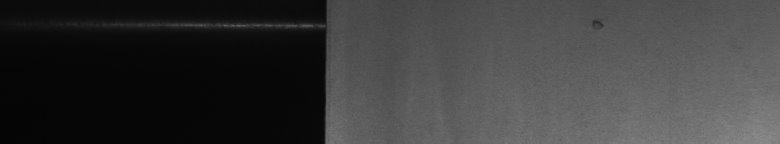fi: (589, 13, 604, 36)
